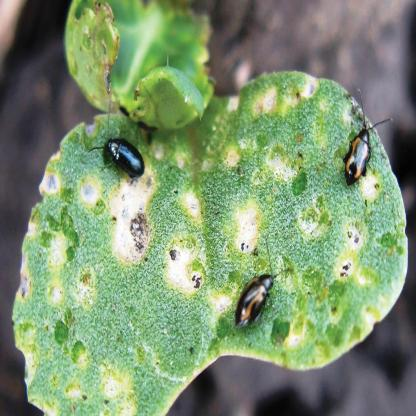beetle: (230, 244, 286, 333), (343, 97, 390, 183), (98, 128, 149, 180)
